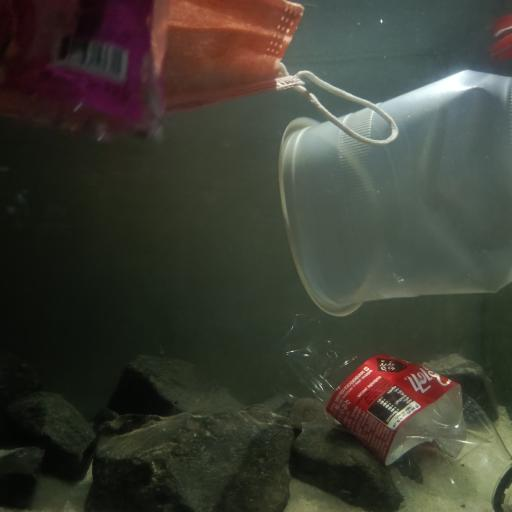mask: (155, 0, 402, 142)
plastic_bottle: (273, 339, 512, 512), (2, 0, 168, 142)
plastic_cup: (278, 70, 510, 320)
